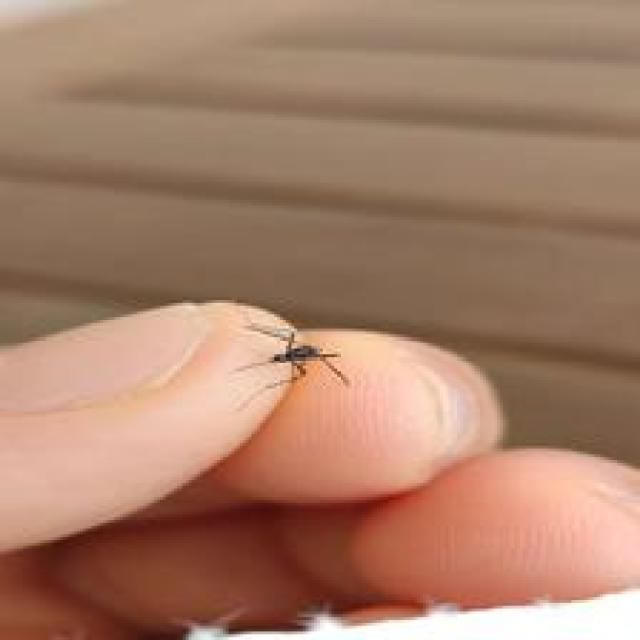Aedes albopictus: (233, 319, 350, 410)
